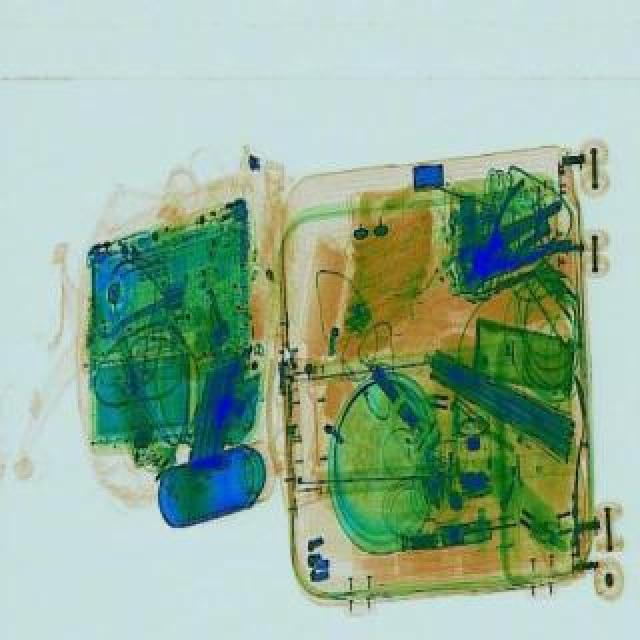wrench: (440, 166, 584, 298), (448, 196, 584, 294)
